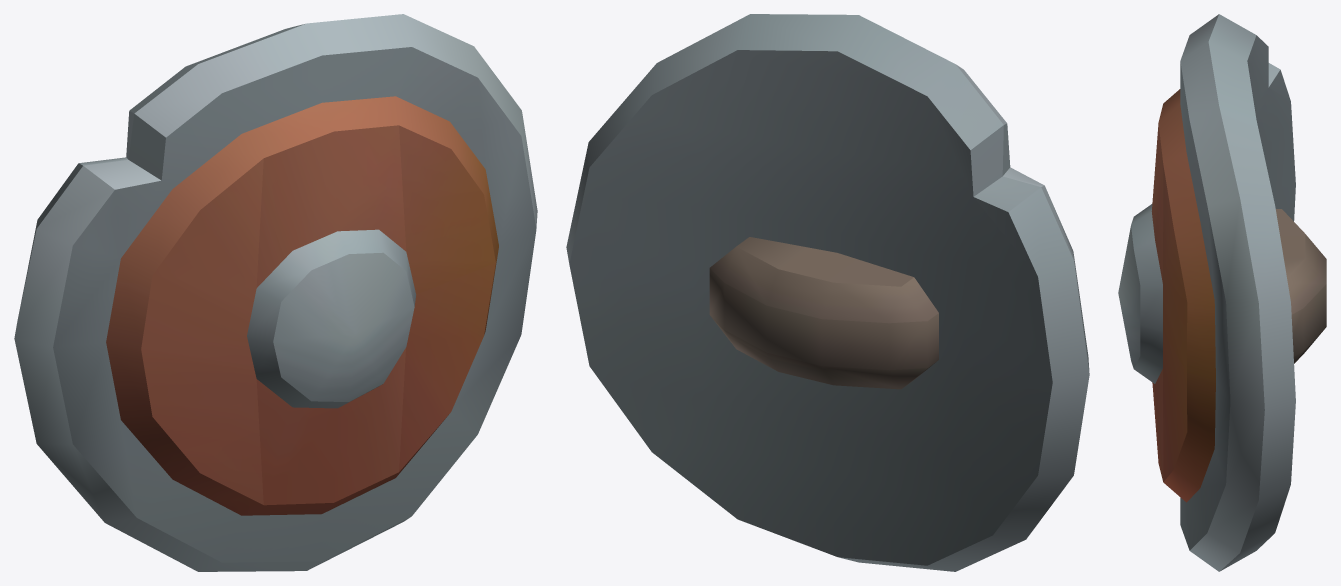
Rendered from shield.glb.
3 views of the same model, side by side, from view 1: azimuth 30°, elevation 25°; view 2: azimuth 150°, elevation 25°; view 3: azimuth 270°, elevation 25° (orthographic). The views are drawn at different scales.
Visible parts, largest first — view 1: shield_round; view 2: shield_round; view 3: shield_round.
Part boxes in pixels (<box>): shield_round: <box>14,14,537,571</box>; shield_round: <box>566,14,1089,571</box>; shield_round: <box>1118,14,1326,571</box>.
Size of the model in its own units: 0.8826 by 0.8826 by 0.332.
1 material, 1 textured.
